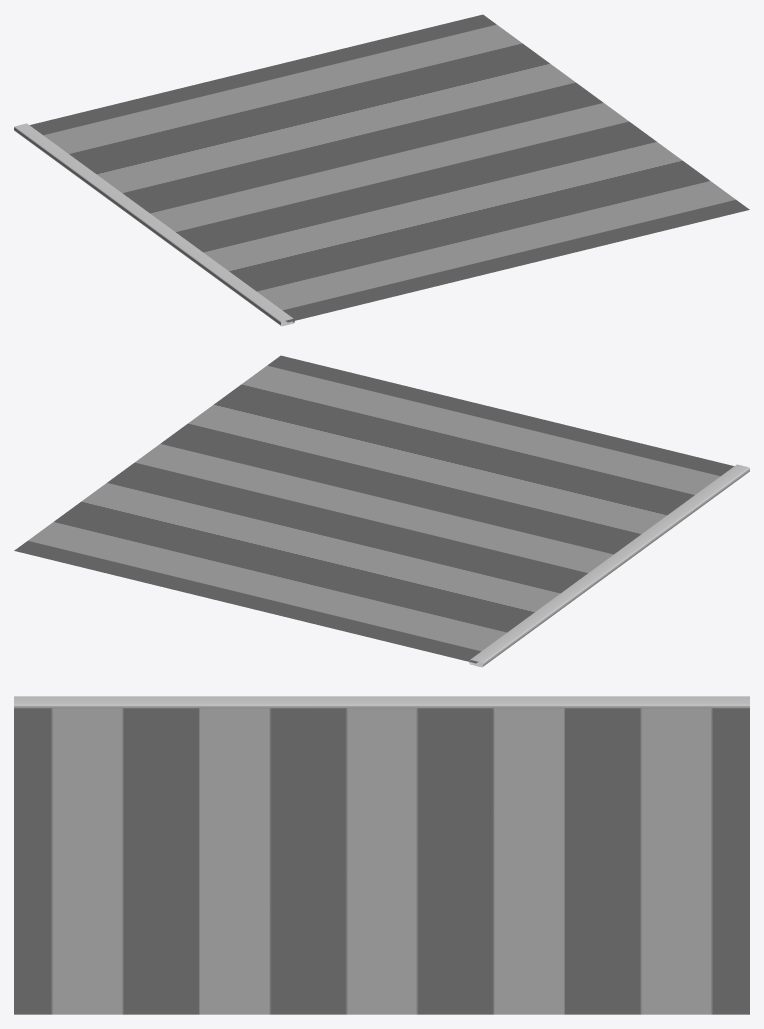
The model's file is SM_Carpet_W1.fbx.
3 views of the same model, one above another, from view 1: azimuth 30°, elevation 25°; view 2: azimuth 150°, elevation 25°; view 3: azimuth 270°, elevation 25° (orthographic). The views are drawn at different scales.
Visible parts, largest first — view 1: SM_Carpet_W1_LOD0; view 2: SM_Carpet_W1_LOD0; view 3: SM_Carpet_W1_LOD0.
Part boxes in pixels (left/top/right/bottom): SM_Carpet_W1_LOD0: left=14, top=14, right=749, bottom=326; SM_Carpet_W1_LOD0: left=14, top=355, right=749, bottom=667; SM_Carpet_W1_LOD0: left=14, top=696, right=749, bottom=1014.
Bounding box in the file's own units: 203 × 200 × 2.
